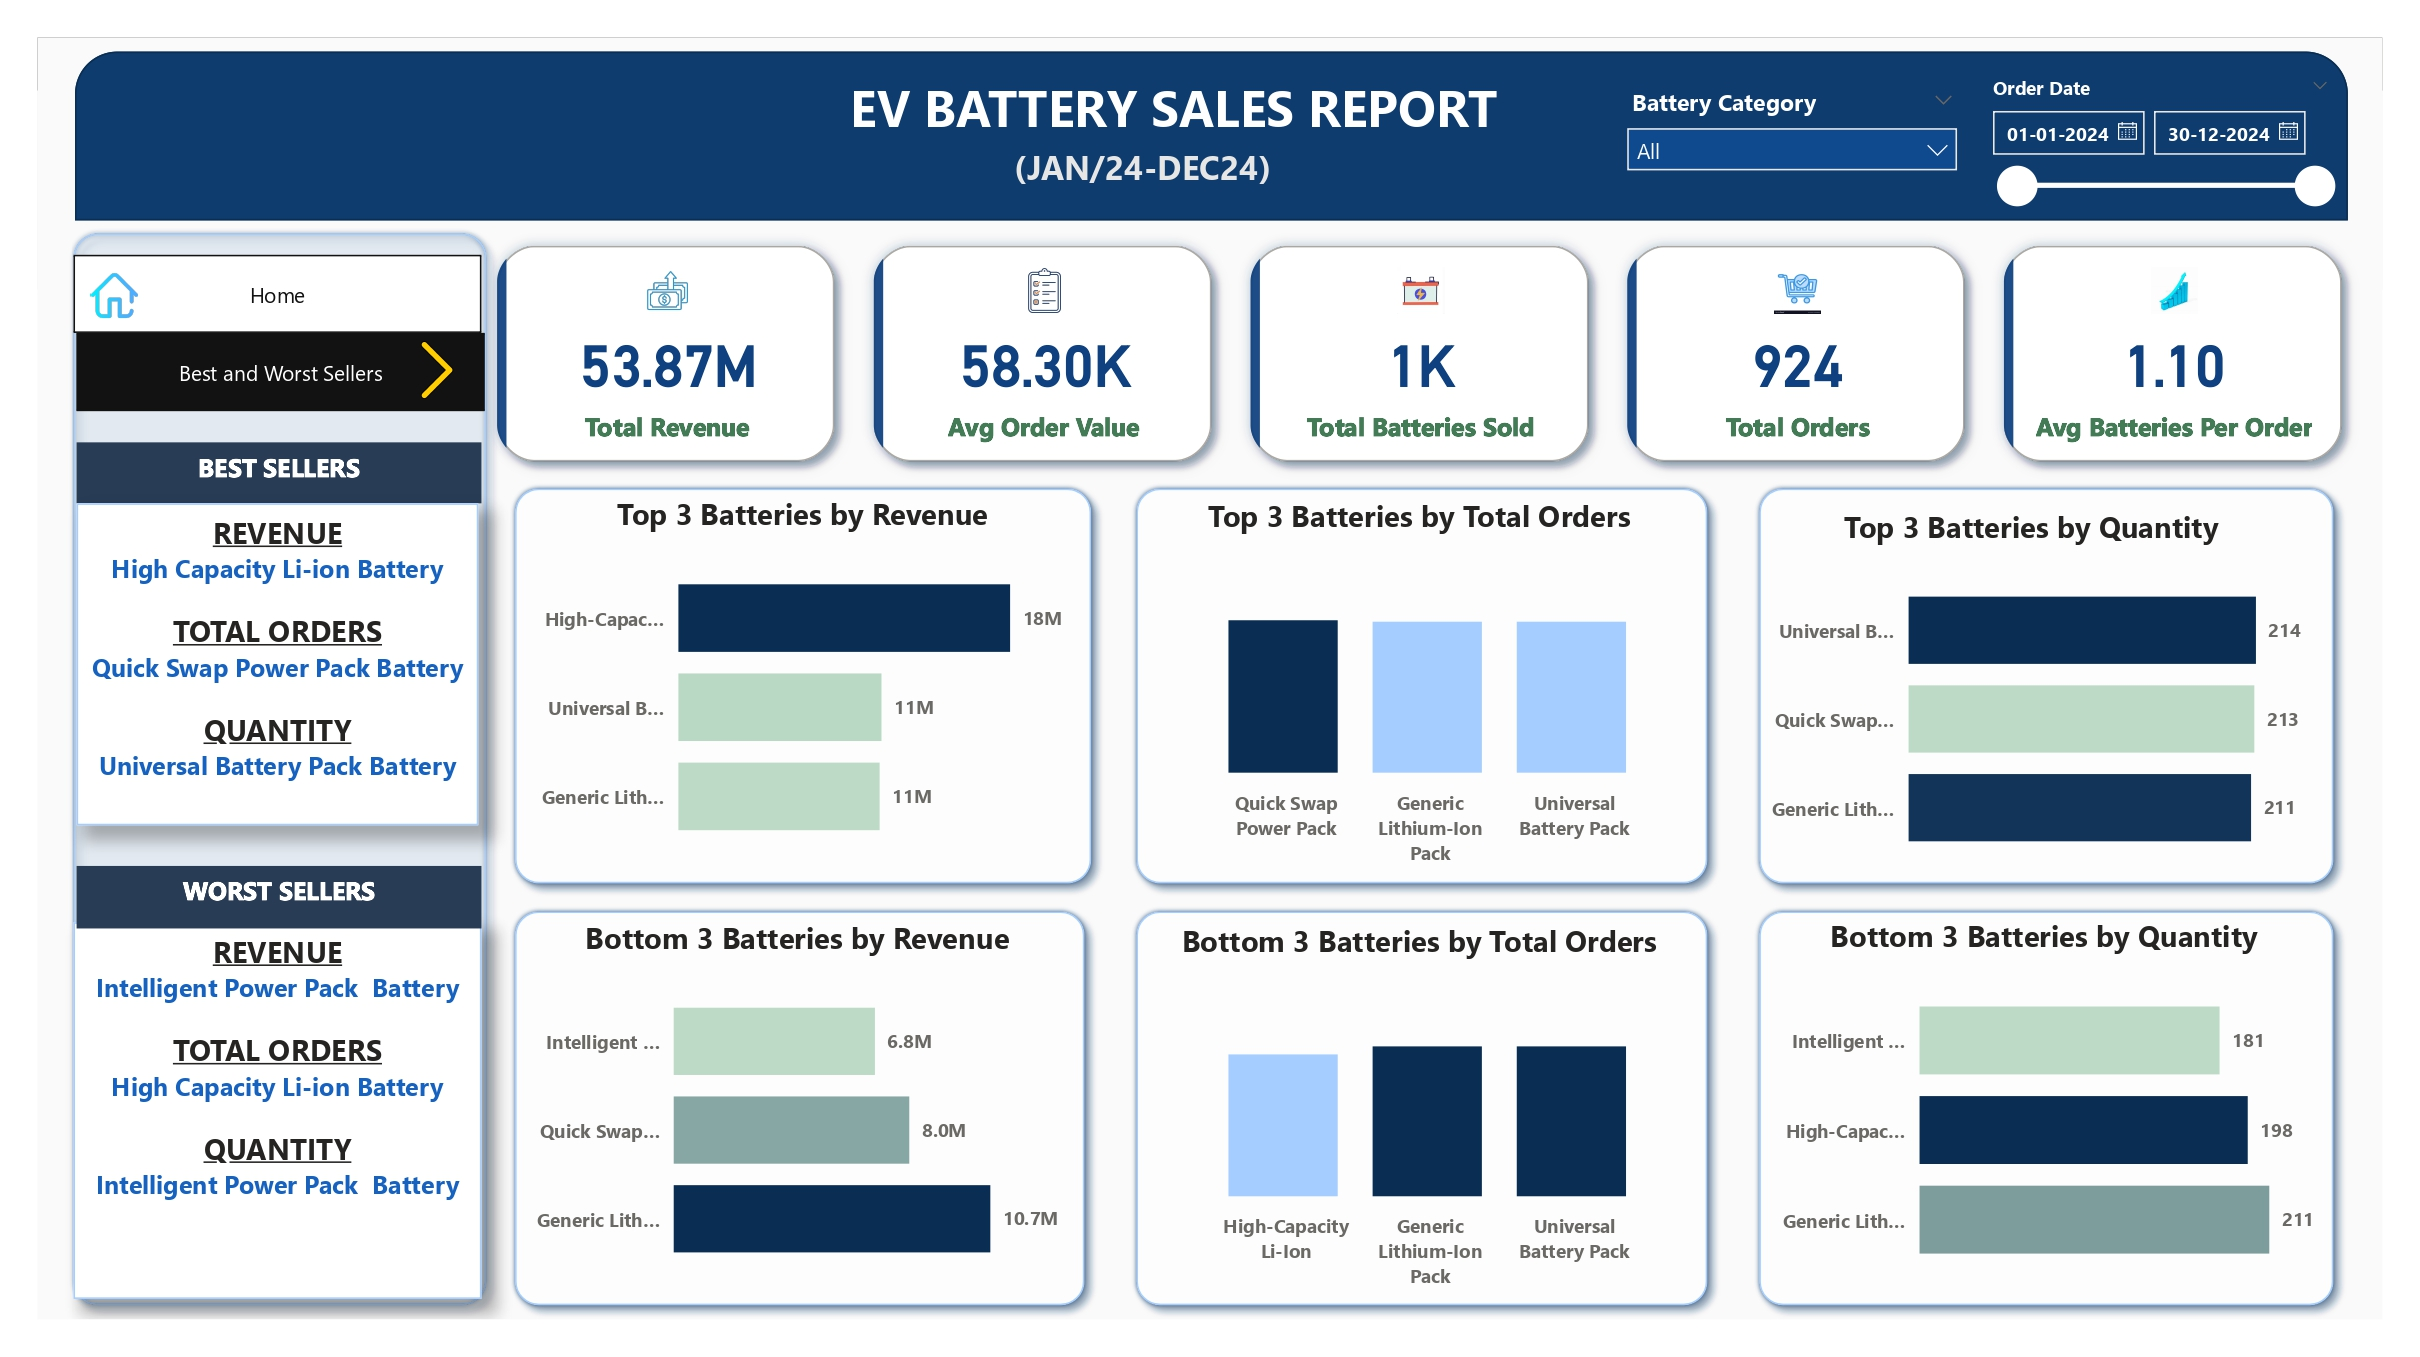

Layout of this report page (visuals, bound fields, positions):
{"tool":"powerbi","page":{"name":"Best and Worst Sellers","canvas":[1500,820],"ordinal":1},"visuals":[{"type":"shape","box":[14.3,116.1,282.1,703.6],"z":0},{"type":"cardVisual","fields":{"Data":["ev_batteries.Total Revenue","ev_batteries.Avg Order Value","ev_batteries.Total Batteries Sold","ev_batteries.Total Orders","ev_batteries.Avg Batteries Per Order"]},"box":[279.4,116.6,1212,170.2],"z":1000},{"type":"shape","box":[24.1,9.3,1454.4,107.3],"z":2000},{"type":"textbox","box":[486.6,16.7,462.6,55.5],"z":3000},{"type":"textbox","box":[619.9,62.9,203.5,42.6],"z":4000},{"type":"shape","box":[296.1,279.4,386.7,270.2],"z":5000},{"type":"shape","box":[693.9,279.4,383,270.2],"z":6000},{"type":"shape","box":[296.1,549.6,383,270],"z":7000},{"type":"shape","box":[693.9,549.6,383,270.2],"z":8000},{"type":"shape","box":[1091.7,549.6,386.7,270.2],"z":9000},{"type":"textbox","box":[25,258.9,258.9,39.3],"z":10000},{"type":"textbox","box":[23.2,566.1,260.7,241.1],"z":11000},{"type":"textbox","box":[25,530.4,258.9,39.3],"z":12000},{"type":"textbox","box":[25,298.2,257.1,205.4],"z":13000},{"type":"slicer","fields":{"Values":["ev_batteries.order_date"]},"box":[1237.9,18.5,240.5,99.9],"z":14000},{"type":"slicer","fields":{"Values":["ev_batteries.battery_category"]},"box":[1006.6,25.9,231.3,74],"z":15000},{"type":"shape","box":[1091.7,279.4,386.7,270.2],"z":16000},{"type":"clusteredBarChart","title":"Top 3 Batteries by Revenue","fields":{"Category":["ev_batteries.battery_name"],"Y":["ev_batteries.Total Revenue"]},"box":[305.3,292.4,368.2,244.2],"z":17000},{"type":"clusteredBarChart","title":"Bottom 3 Batteries by Revenue","fields":{"Category":["ev_batteries.battery_name"],"Y":["ev_batteries.Total Revenue"]},"box":[301.6,562.5,368.2,244.2],"z":18000},{"type":"clusteredBarChart","title":"Top 3 Batteries by Quantity","fields":{"Category":["ev_batteries.battery_name"],"Y":["Sum(ev_batteries.quantity)"]},"box":[1091.9,299.7,367.1,243.9],"z":19000},{"type":"clusteredBarChart","title":"Bottom 3 Batteries by Quantity","fields":{"Category":["ev_batteries.battery_name"],"Y":["Sum(ev_batteries.quantity)"]},"box":[1098.9,562.2,369.4,246.3],"z":20000},{"type":"clusteredColumnChart","title":" Top 3 Batteries by Total Orders","fields":{"Category":["ev_batteries.battery_name"],"Y":["ev_batteries.Total Orders"]},"box":[706.3,292.7,355.5,243.9],"z":21000},{"type":"clusteredColumnChart","title":" Bottom 3 Batteries by Total Orders","fields":{"Category":["ev_batteries.battery_name"],"Y":["ev_batteries.Total Orders"]},"box":[706.3,564.5,355.5,243.9],"z":22000},{"type":"pageNavigator","box":[23.2,139.3,260.7,50],"z":23000},{"type":"pageNavigator","box":[25,189.3,260.7,50],"z":24000},{"type":"image","box":[231.9,164.8,47.1,94.2],"z":25000},{"type":"image","box":[25.4,144.9,47.1,39.9],"z":25001}]}

Visuals, with their boxes in screenshot pixels (x1, y1, x2, y2):
shape: bbox=[60, 219, 501, 1319]
cardVisual - ev_batteries.Total Revenue x ev_batteries.Avg Order Value: bbox=[474, 220, 2369, 486]
shape: bbox=[75, 52, 2349, 220]
textbox: bbox=[798, 64, 1521, 150]
textbox: bbox=[1007, 136, 1325, 202]
shape: bbox=[500, 474, 1105, 897]
shape: bbox=[1122, 474, 1721, 897]
shape: bbox=[500, 897, 1099, 1319]
shape: bbox=[1122, 897, 1721, 1319]
shape: bbox=[1744, 897, 2349, 1319]
textbox: bbox=[77, 442, 481, 504]
textbox: bbox=[74, 923, 481, 1299]
textbox: bbox=[77, 867, 481, 928]
textbox: bbox=[77, 504, 479, 825]
slicer - ev_batteries.order_date: bbox=[1973, 66, 2349, 223]
slicer - ev_batteries.battery_category: bbox=[1611, 78, 1973, 194]
shape: bbox=[1744, 474, 2349, 897]
"Top 3 Batteries by Revenue" clusteredBarChart: bbox=[515, 495, 1090, 876]
"Bottom 3 Batteries by Revenue" clusteredBarChart: bbox=[509, 917, 1085, 1299]
"Top 3 Batteries by Quantity" clusteredBarChart: bbox=[1744, 506, 2318, 887]
"Bottom 3 Batteries by Quantity" clusteredBarChart: bbox=[1755, 916, 2333, 1302]
" Top 3 Batteries by Total Orders" clusteredColumnChart: bbox=[1142, 495, 1697, 876]
" Bottom 3 Batteries by Total Orders" clusteredColumnChart: bbox=[1142, 920, 1697, 1301]
pageNavigator: bbox=[74, 255, 481, 333]
pageNavigator: bbox=[77, 333, 484, 412]
image: bbox=[400, 295, 474, 442]
image: bbox=[77, 264, 151, 326]
